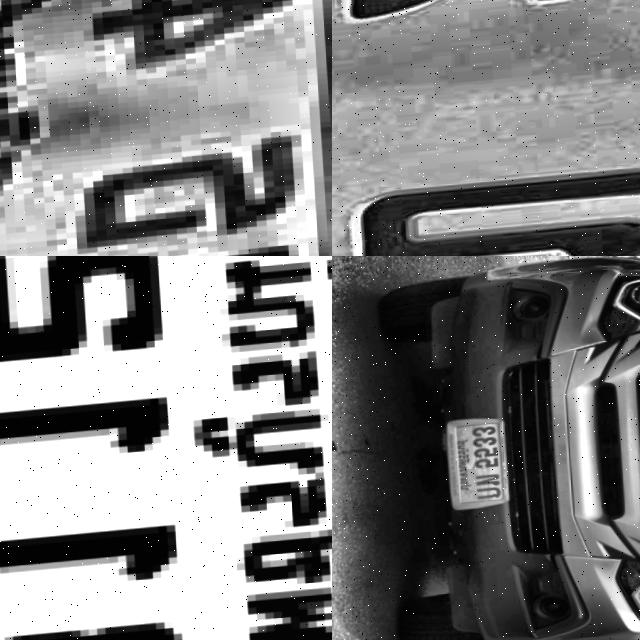license-plate: (0, 256, 332, 640), (0, 0, 332, 256), (332, 0, 640, 256), (440, 416, 511, 514)
